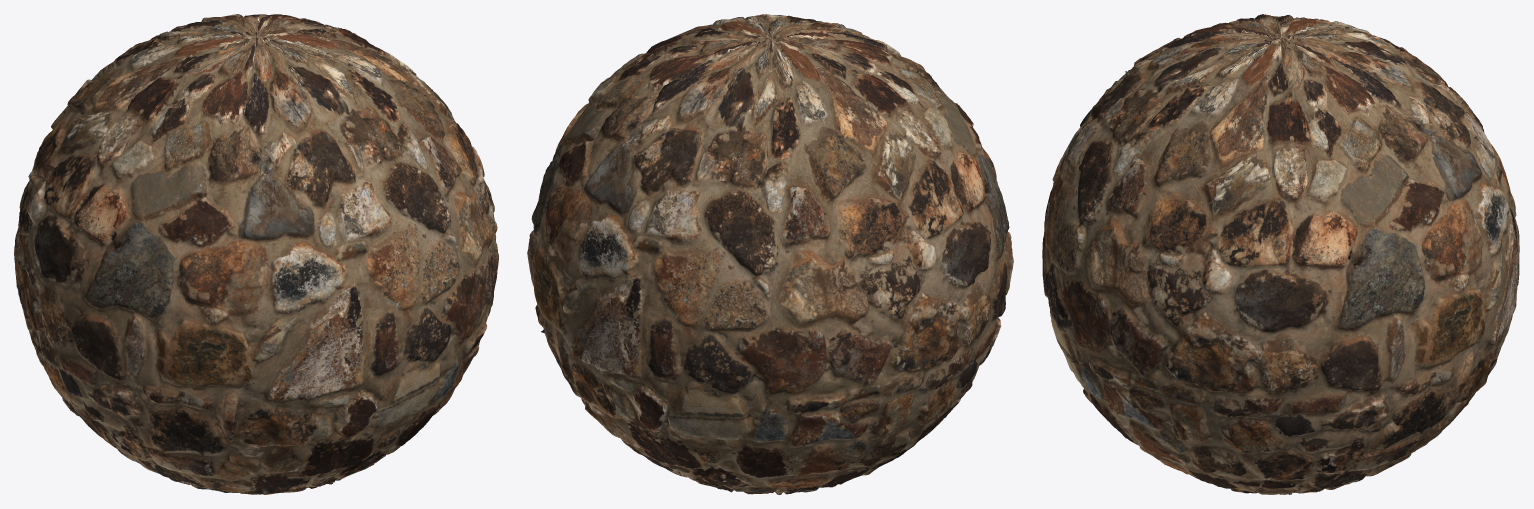
File: rock_wall_15_1k.gltf
3 renders of one model, left to right at view 1: azimuth 30°, elevation 25°; view 2: azimuth 150°, elevation 25°; view 3: azimuth 270°, elevation 25°, orthographic.
Parts seen in each view (by area): view 1: sphere_gltf; view 2: sphere_gltf; view 3: sphere_gltf.
Boxes of the visible parts, <box> form: sphere_gltf: <box>14,14,498,494</box>; sphere_gltf: <box>527,14,1013,494</box>; sphere_gltf: <box>1042,14,1519,494</box>.
Size of the model in its own units: 1.87 by 1.88 by 1.86.
